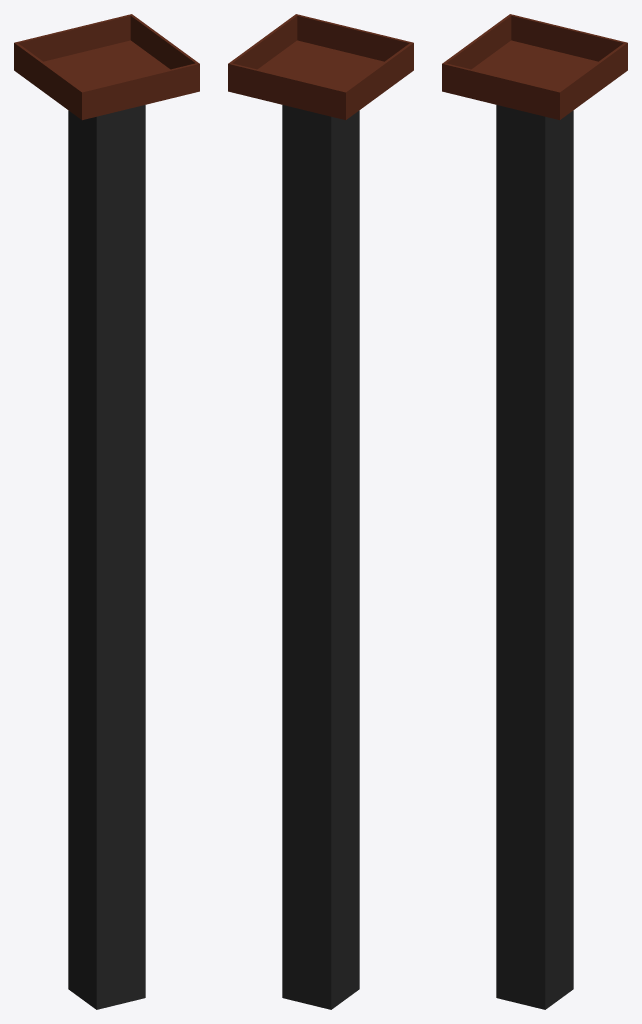
File: Platform.fbx
3 views of the same model, side by side, from view 1: azimuth 30°, elevation 25°; view 2: azimuth 150°, elevation 25°; view 3: azimuth 330°, elevation 25° (orthographic).
Parts seen in each view (by area): view 1: Platform; view 2: Platform; view 3: Platform.
Part boxes in pixels (x1,y1,x2,y2): Platform: [14, 14, 199, 1009]; Platform: [228, 14, 413, 1009]; Platform: [442, 14, 627, 1009].
Bounding box in the file's own units: 400 × 3050 × 400.
